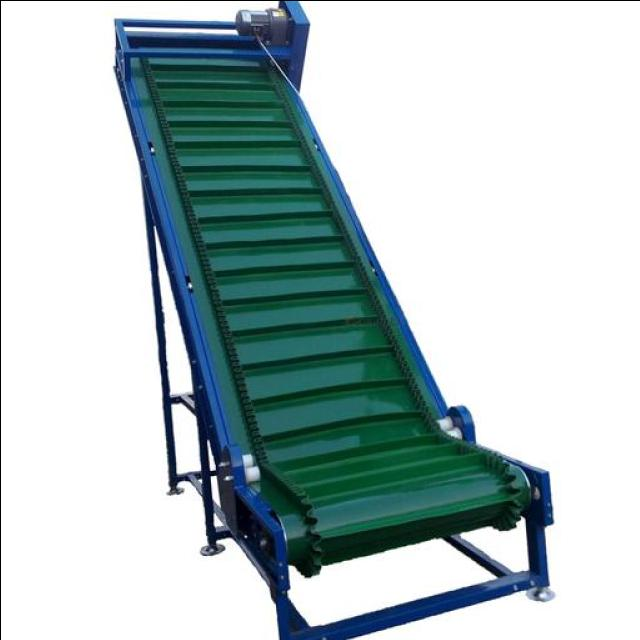conveyor: (140, 54, 524, 561)
